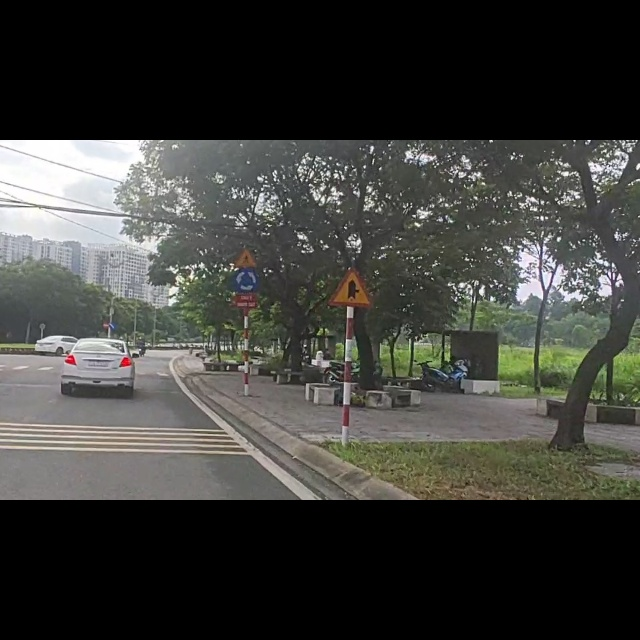bien_hieu_lenh: (325, 228, 374, 297), (233, 233, 261, 271), (234, 188, 258, 229), (109, 324, 117, 338), (102, 322, 109, 334)
